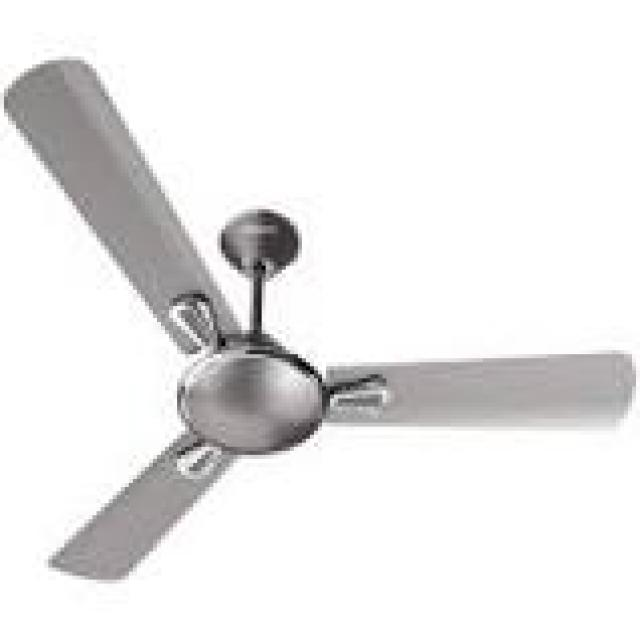fan: (2, 55, 635, 582)
